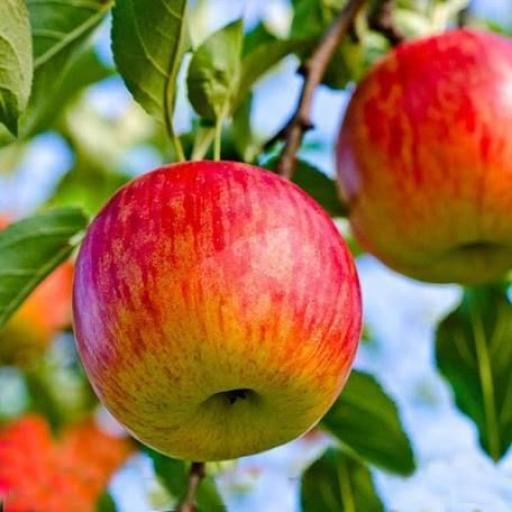apple: (73, 161, 361, 461), (337, 30, 511, 284)
